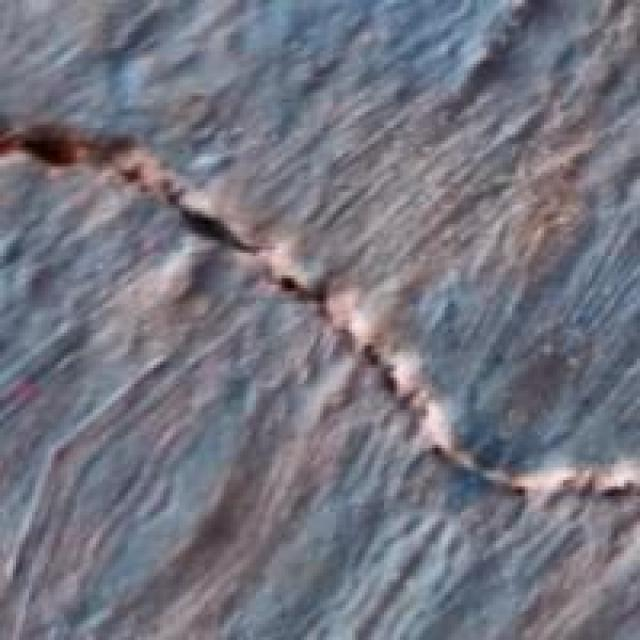Crack: (0, 96, 637, 550)
